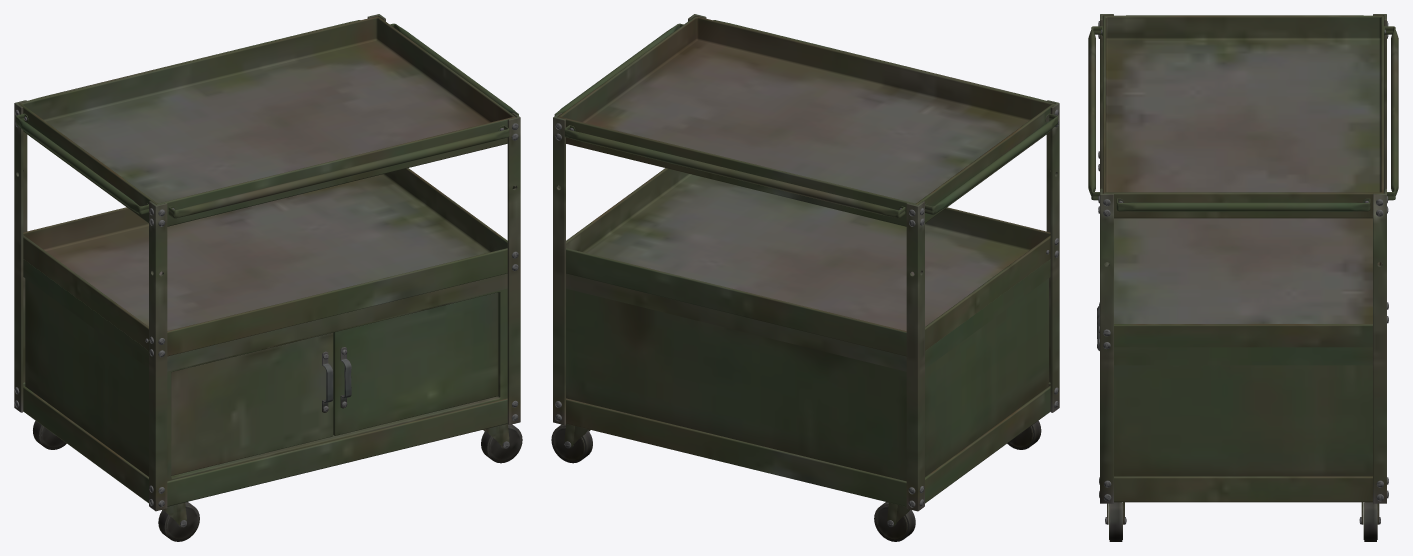
File: storage_cart.glb
The picture shows the model from 3 angles, left to right: view 1: azimuth 30°, elevation 25°; view 2: azimuth 150°, elevation 25°; view 3: azimuth 270°, elevation 25°; orthographic projection.
Visible parts, largest first — view 1: industrial_storage_cart; view 2: industrial_storage_cart; view 3: industrial_storage_cart.
Part boxes in pixels (x1=…): industrial_storage_cart: x1=14, y1=14, x2=522, y2=541; industrial_storage_cart: x1=551, y1=14, x2=1059, y2=541; industrial_storage_cart: x1=1088, y1=14, x2=1398, y2=541.
Size of the model in its own units: 1.6 by 1.38 by 1.1.
1 material, 1 textured.
